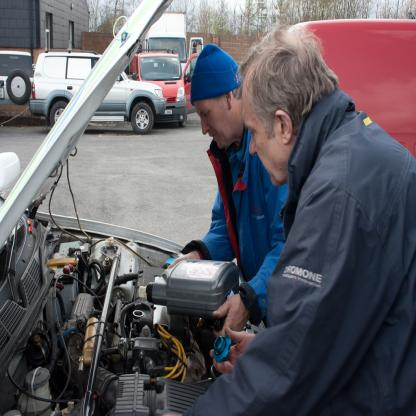Car: (1, 1, 270, 416), (1, 51, 167, 133)
